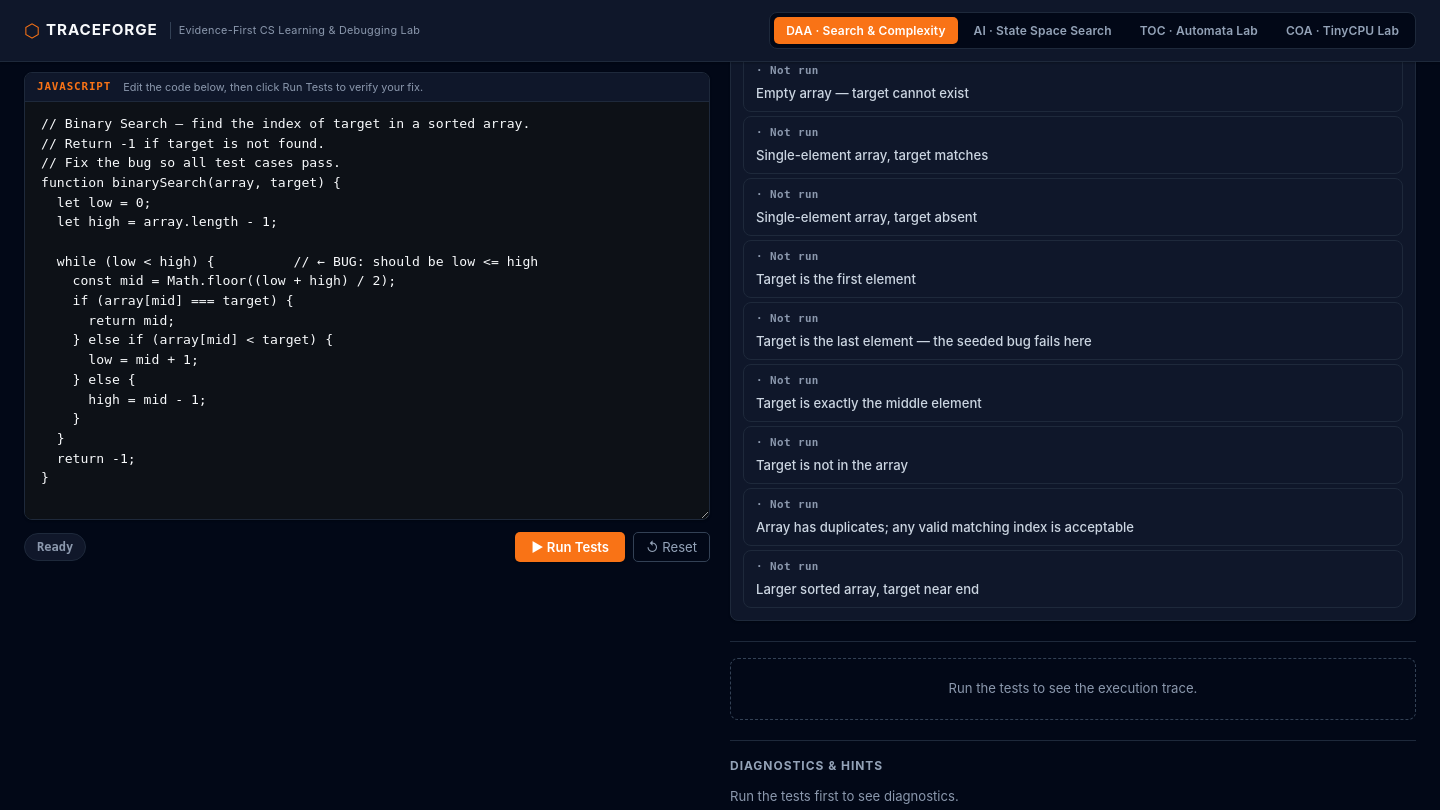
Test: TRACEFORGE Integrated Four-Subject Navigation › verifies export evidence button appears after running DAA lab
The width and height of the screenshot is (1440, 810).
(page scrolled)
Note: Run the DAA binary search tests
Click the button with aria-label "Run all test cases". click: point(570, 547)
box: [515,532,625,562]
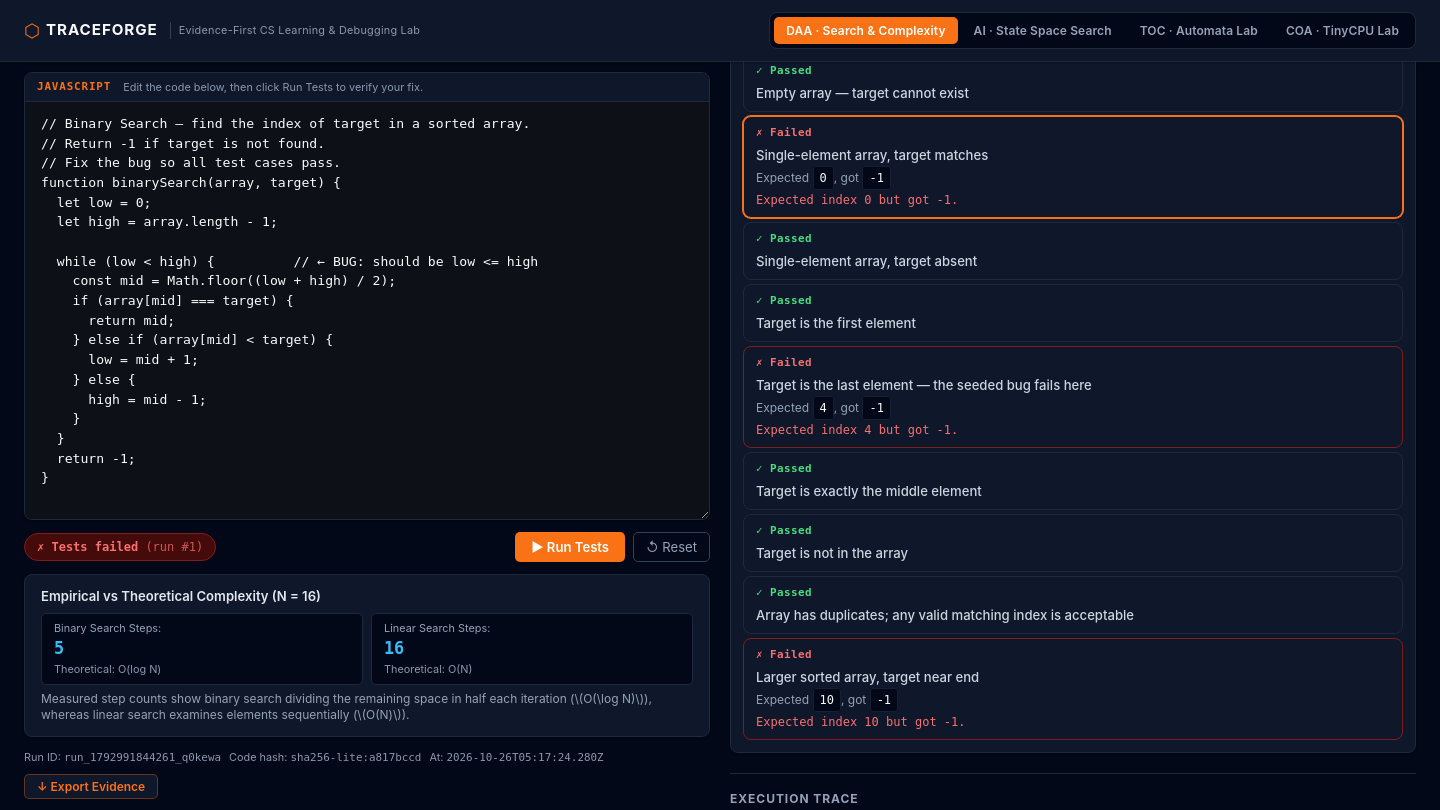
Expected: the button "↓ Export Evidence" is shown, [24,775,158,800]
